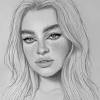No-Glasses: (15, 30, 66, 46)
